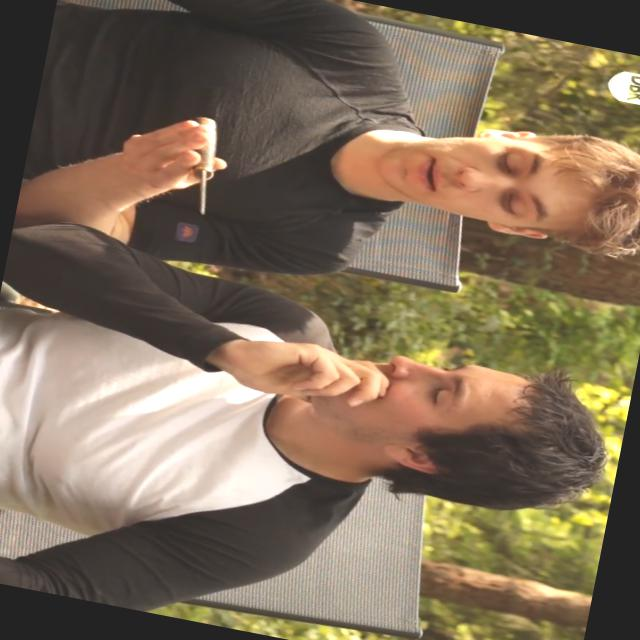knife: (138, 95, 260, 228)
